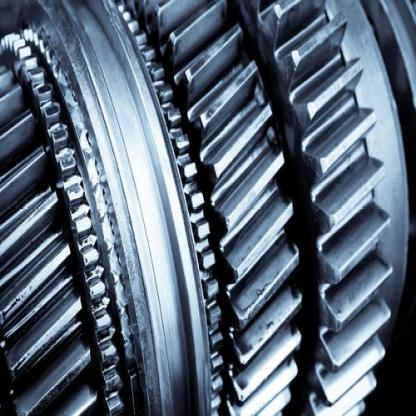FOD: (126, 0, 300, 415), (251, 0, 396, 413)
